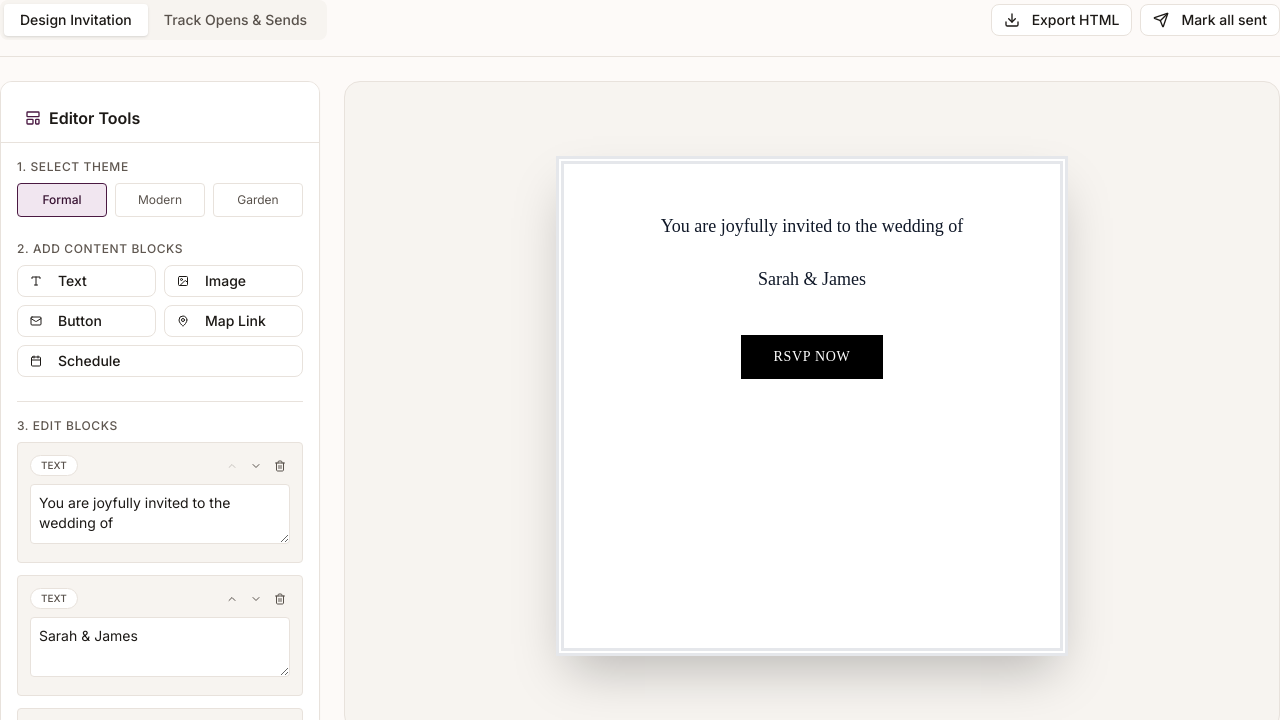
EventInvitesTab › switches to tracking view
Click the button "Track Opens & Sends": (236, 20) [148, 4, 323, 36]
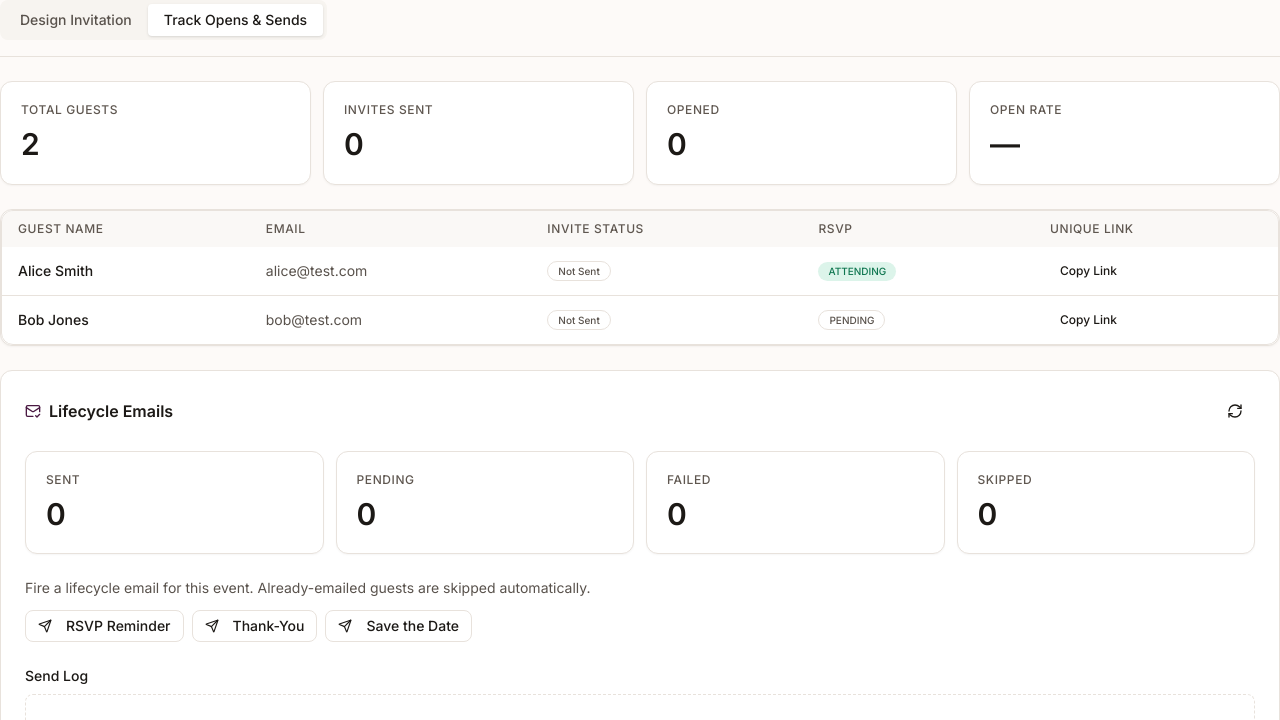
Now the text "Total Guests" is shown, box [21, 102, 118, 117]
Now the text "Invites Sent" is shown, box [344, 102, 433, 117]
Now the text "Open Rate" is shown, box [990, 102, 1062, 117]
